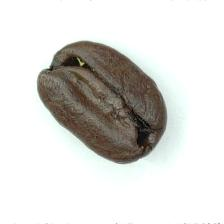NG: (51, 49, 156, 151)
